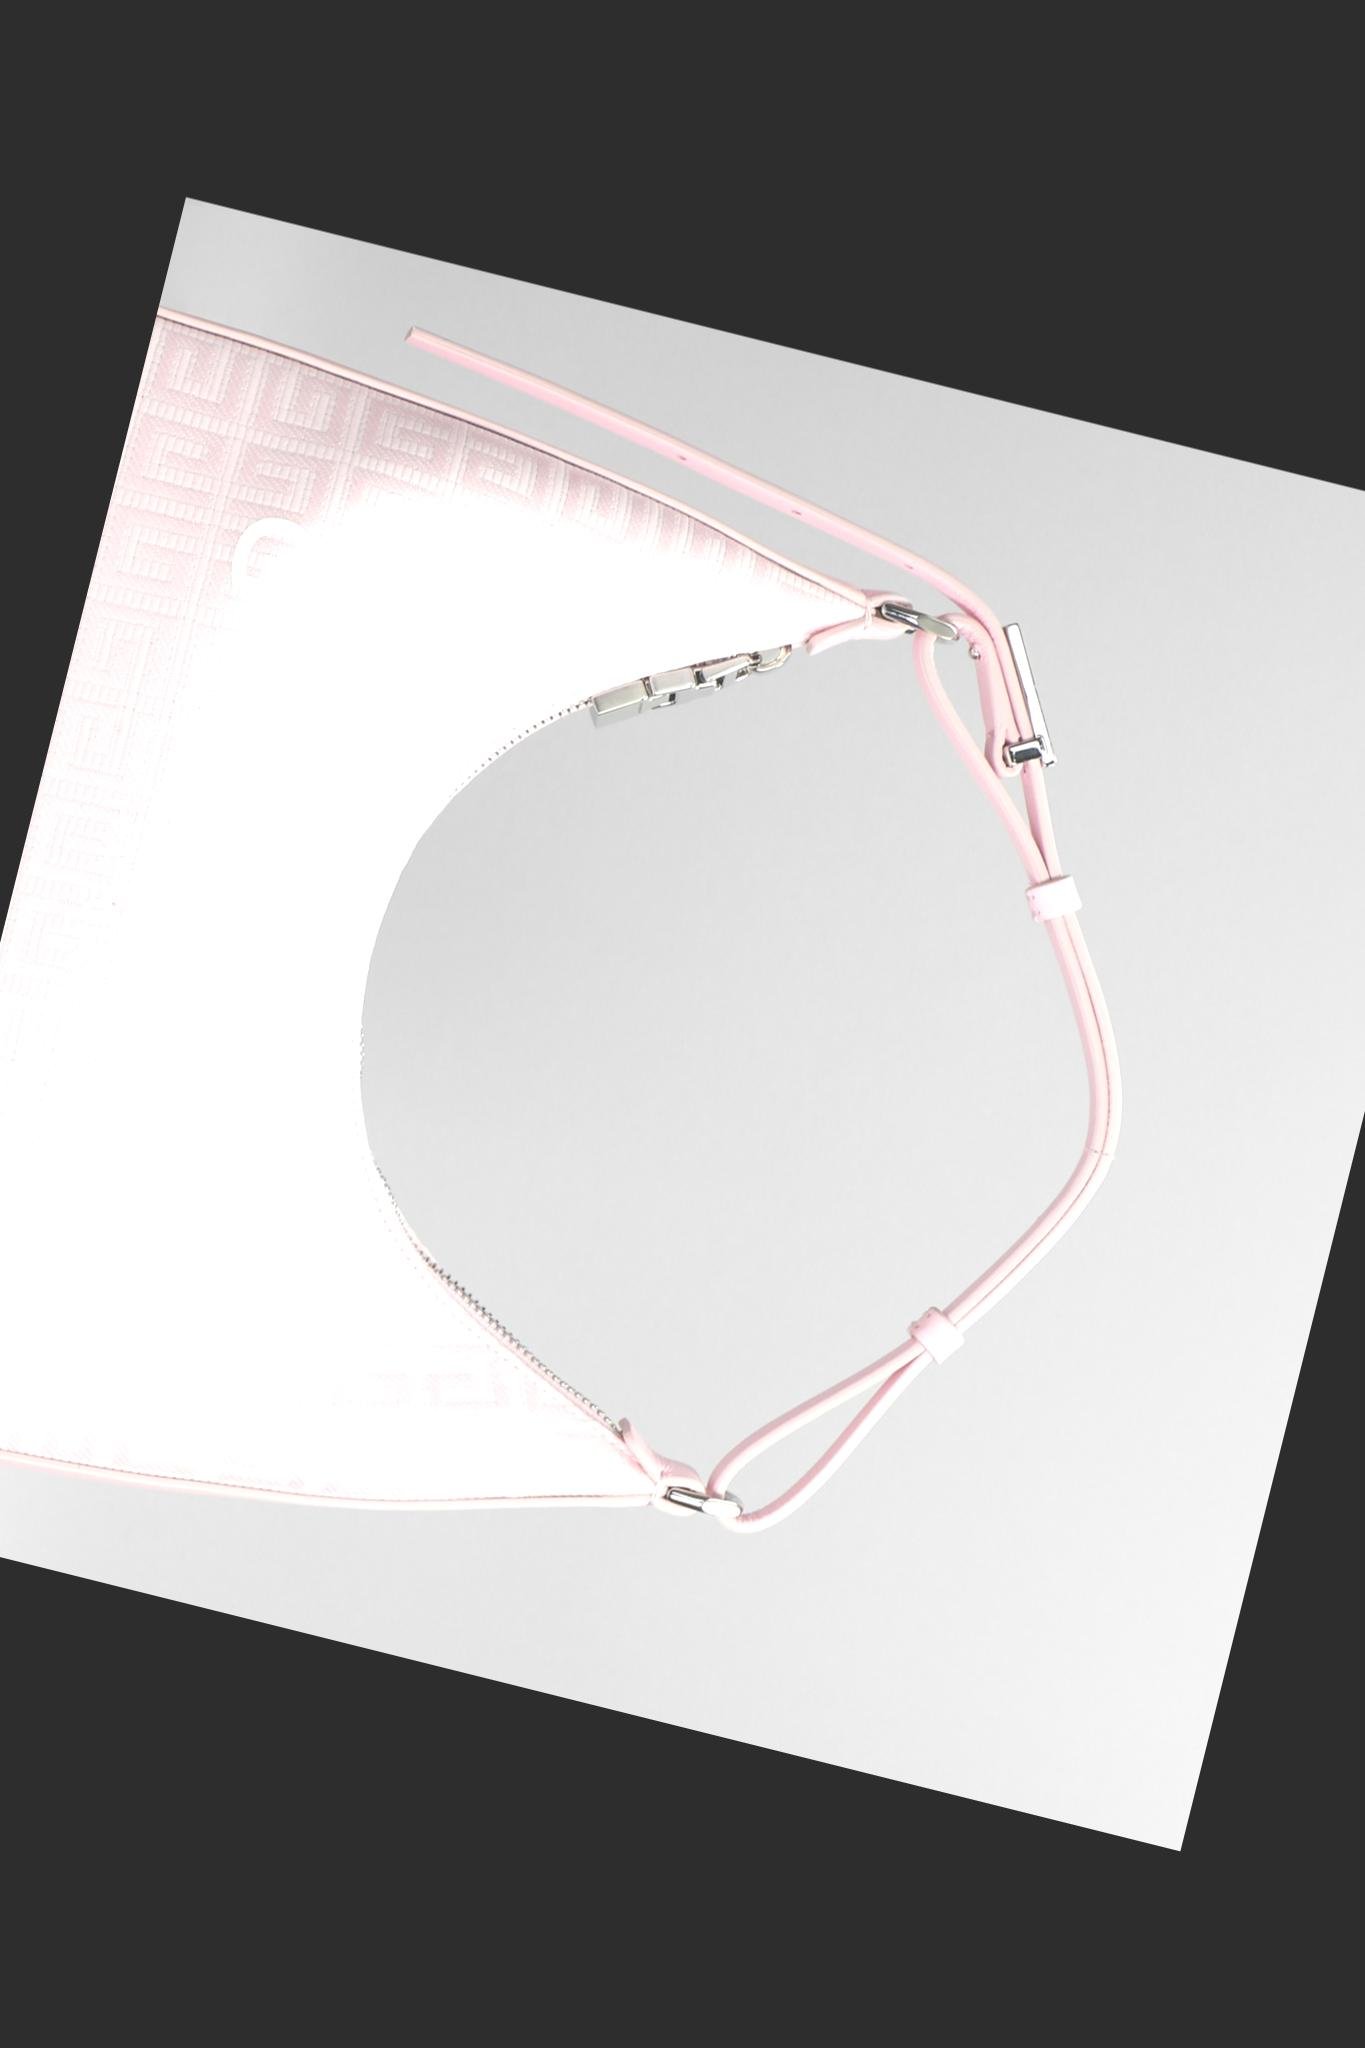GIVENCHY: (41, 518, 338, 1317)
